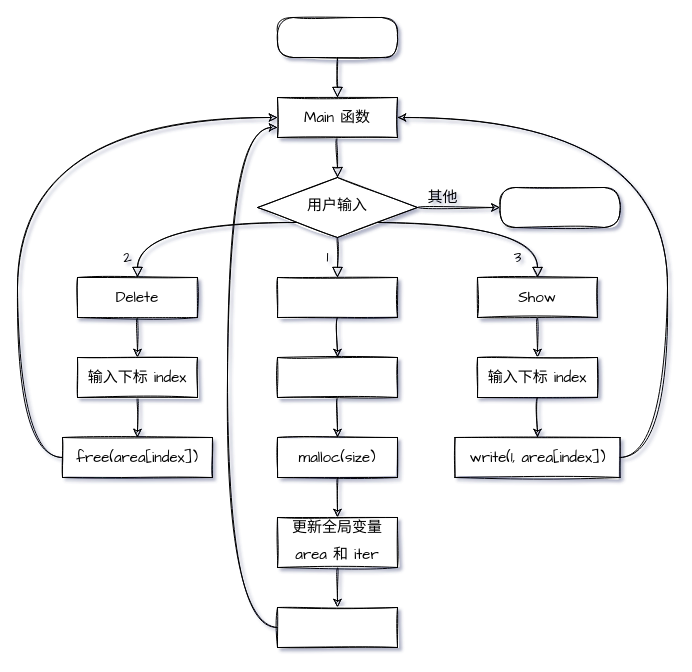
The diagram is 692 pixels wide and 672 high, and some of its shapes have lost their labels. Here are the shapes that lost their labels. From the top down, the centre of each, then its label:
point 337,37: 程序启动
point 559,207: 程序结束
point 337,297: Add
point 337,377: 输入长度 size
point 337,627: 输入 content
